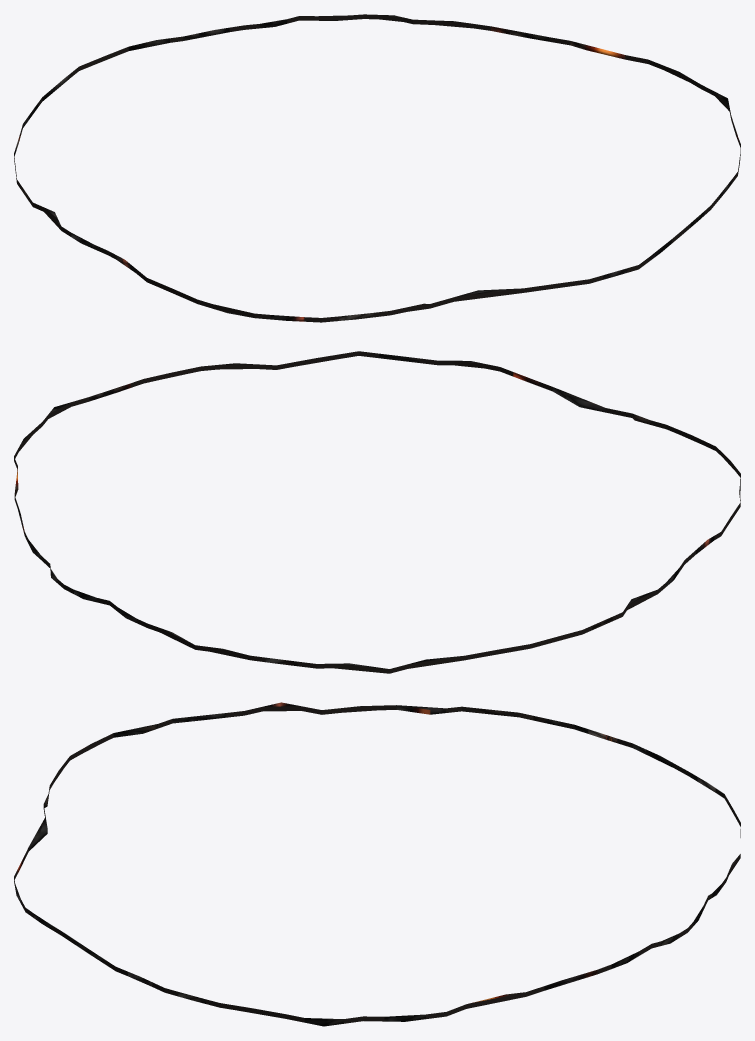
File: rim.glb
3 renders of one model, top to bottom at view 1: azimuth 30°, elevation 25°; view 2: azimuth 150°, elevation 25°; view 3: azimuth 270°, elevation 25°, orthographic. The views are drawn at different scales.
Parts seen in each view (by area): view 1: Lava; view 2: Lava; view 3: Lava.
Part boxes in pixels (x1,y1,x2,y2): Lava: (14, 14, 740, 322); Lava: (14, 351, 740, 673); Lava: (14, 702, 740, 1026).
Size of the model in its own units: 122 by 2.85 by 119.
1 material, 1 textured.
